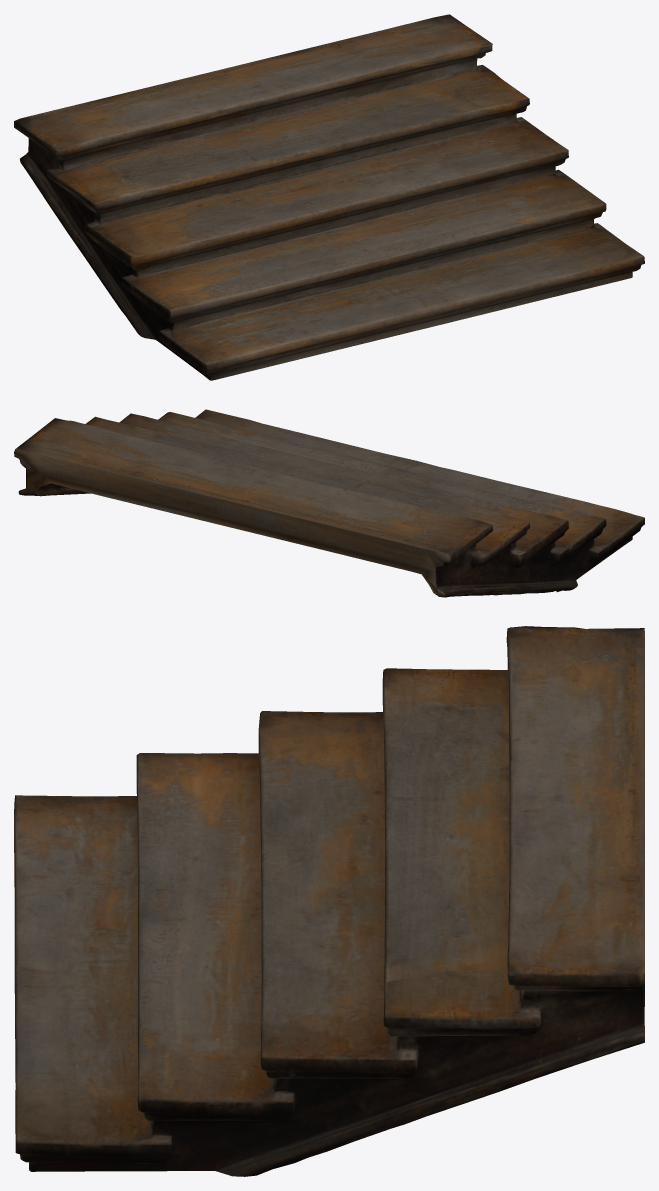
The model's file is E_Stair.fbx.
The picture shows the model from 3 angles, top to bottom: view 1: azimuth 30°, elevation 25°; view 2: azimuth 150°, elevation 25°; view 3: azimuth 270°, elevation 25°; orthographic projection. The views are drawn at different scales.
Parts seen in each view (by area): view 1: S_Modular_Stairs_And_Handrail_Kit_uifnaekdw_lod3_Var5_LOD0; view 2: S_Modular_Stairs_And_Handrail_Kit_uifnaekdw_lod3_Var5_LOD0; view 3: S_Modular_Stairs_And_Handrail_Kit_uifnaekdw_lod3_Var5_LOD0.
Part boxes in pixels (x1,y1,x2,y2): S_Modular_Stairs_And_Handrail_Kit_uifnaekdw_lod3_Var5_LOD0: (14, 14, 644, 380); S_Modular_Stairs_And_Handrail_Kit_uifnaekdw_lod3_Var5_LOD0: (14, 409, 644, 597); S_Modular_Stairs_And_Handrail_Kit_uifnaekdw_lod3_Var5_LOD0: (14, 626, 644, 1176).
Bounding box in the file's own units: 299 × 81.86 × 228.
